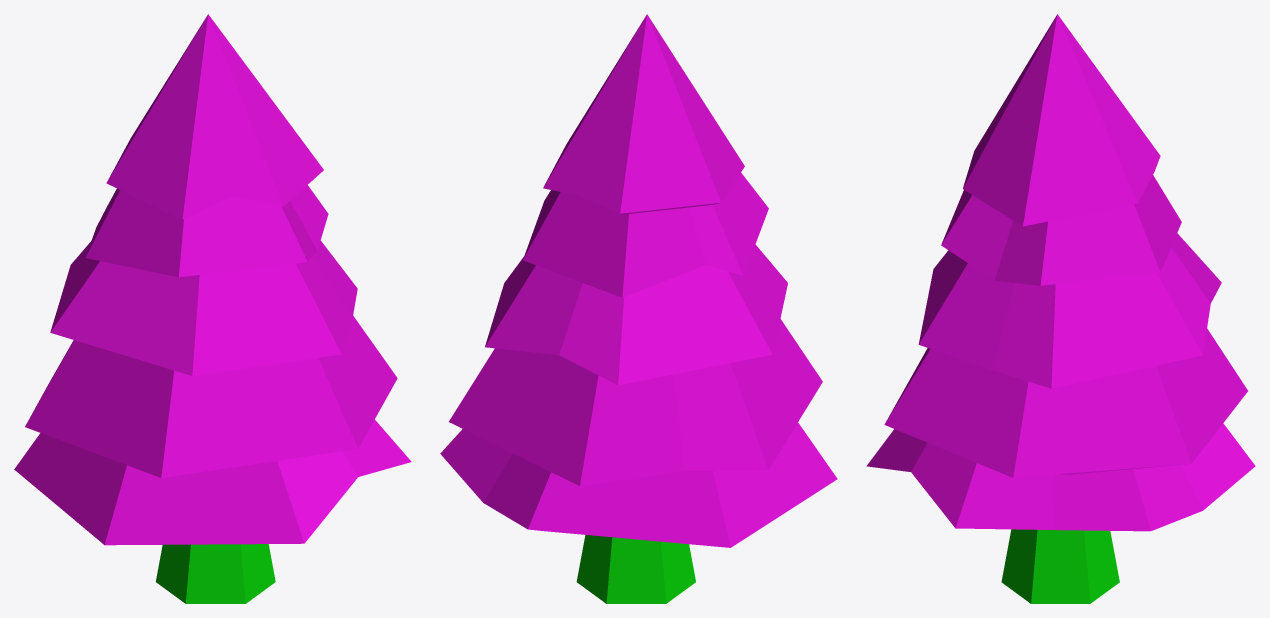
The model's file is Pine Tree 1.fbx.
The picture shows the model from 3 angles, left to right: view 1: azimuth 30°, elevation 25°; view 2: azimuth 150°, elevation 25°; view 3: azimuth 270°, elevation 25°; orthographic projection.
Visible parts, largest first — view 1: Pine Tree 1; view 2: Pine Tree 1; view 3: Pine Tree 1.
Boxes of the visible parts, box(x1,y1,x2,y2) form: Pine Tree 1: box(14, 14, 411, 603); Pine Tree 1: box(440, 14, 837, 603); Pine Tree 1: box(866, 14, 1255, 603).
Bounding box in the file's own units: 443 × 756 × 473.
